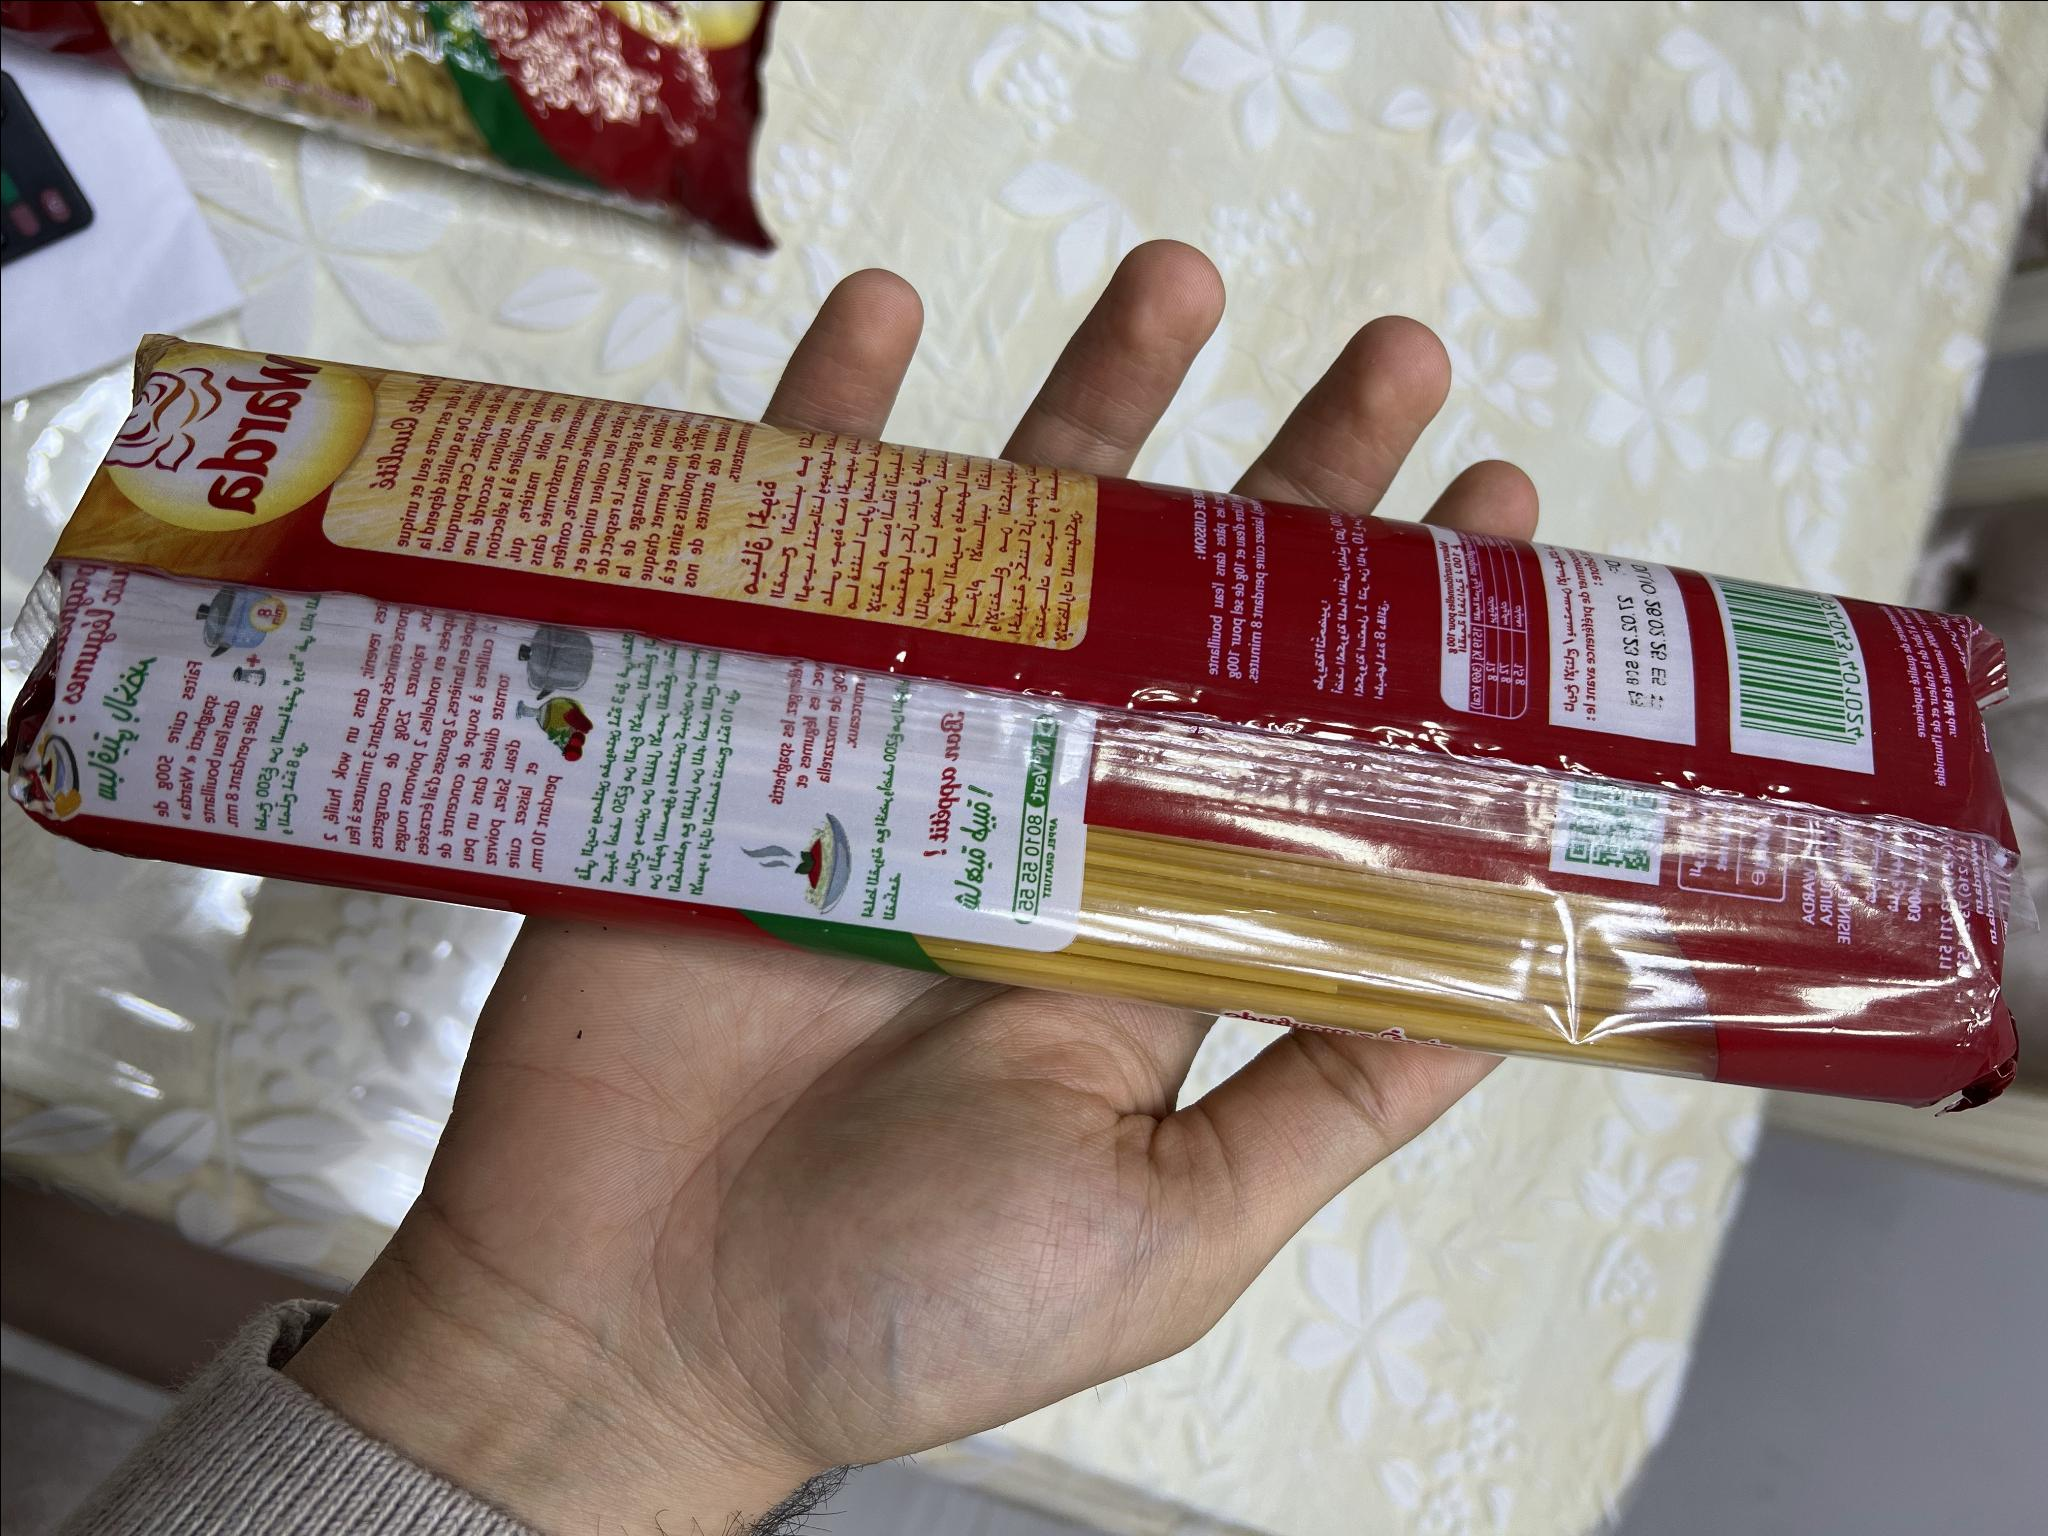Spaghetti: (5, 336, 2021, 1112)
